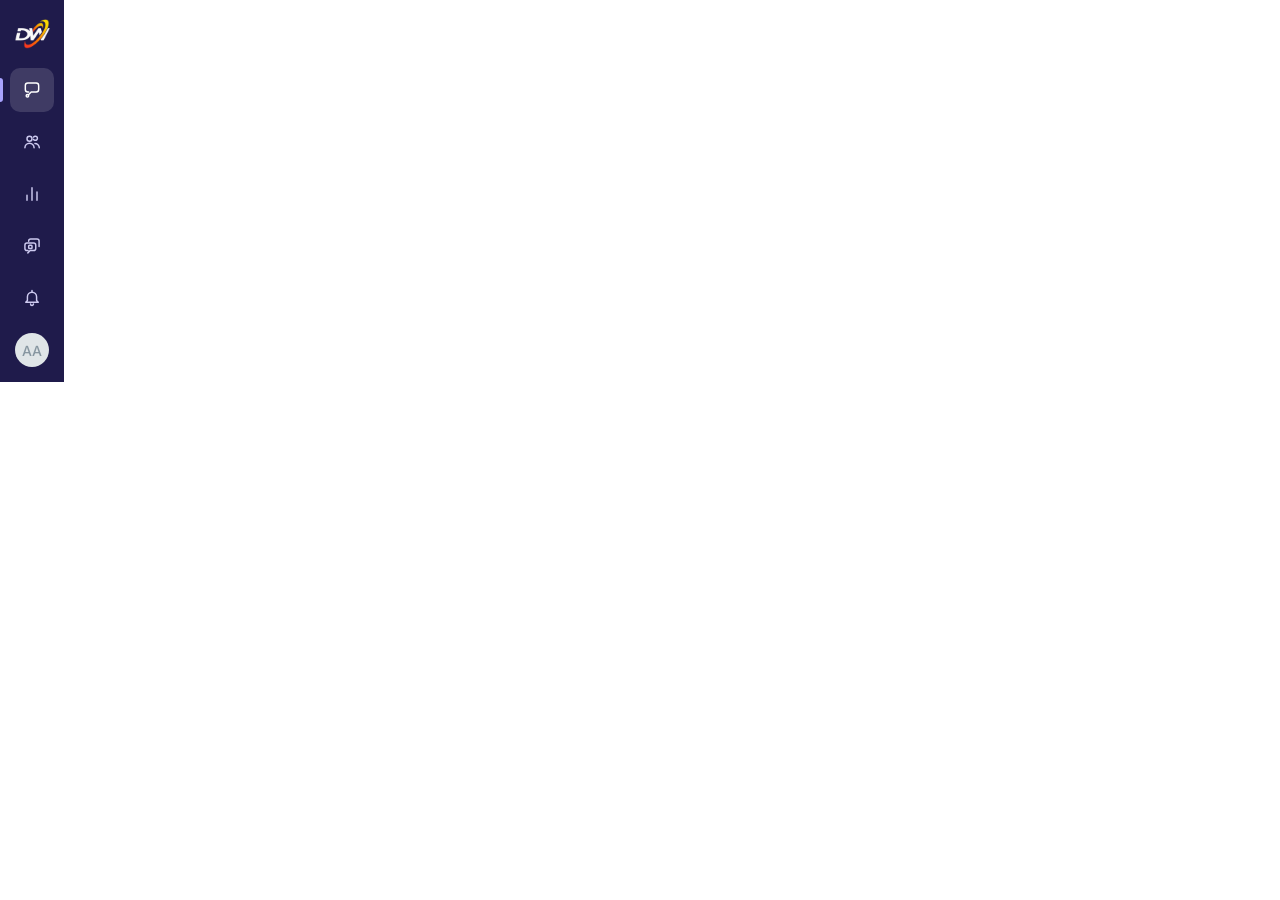
Test: trilho da mesa › Equipe abre o popup "Nossa equipe" e mostra quantos estão online
The width and height of the screenshot is (1280, 900).
Click the button named "equipe" at [32, 142], box [10,120,54,164]
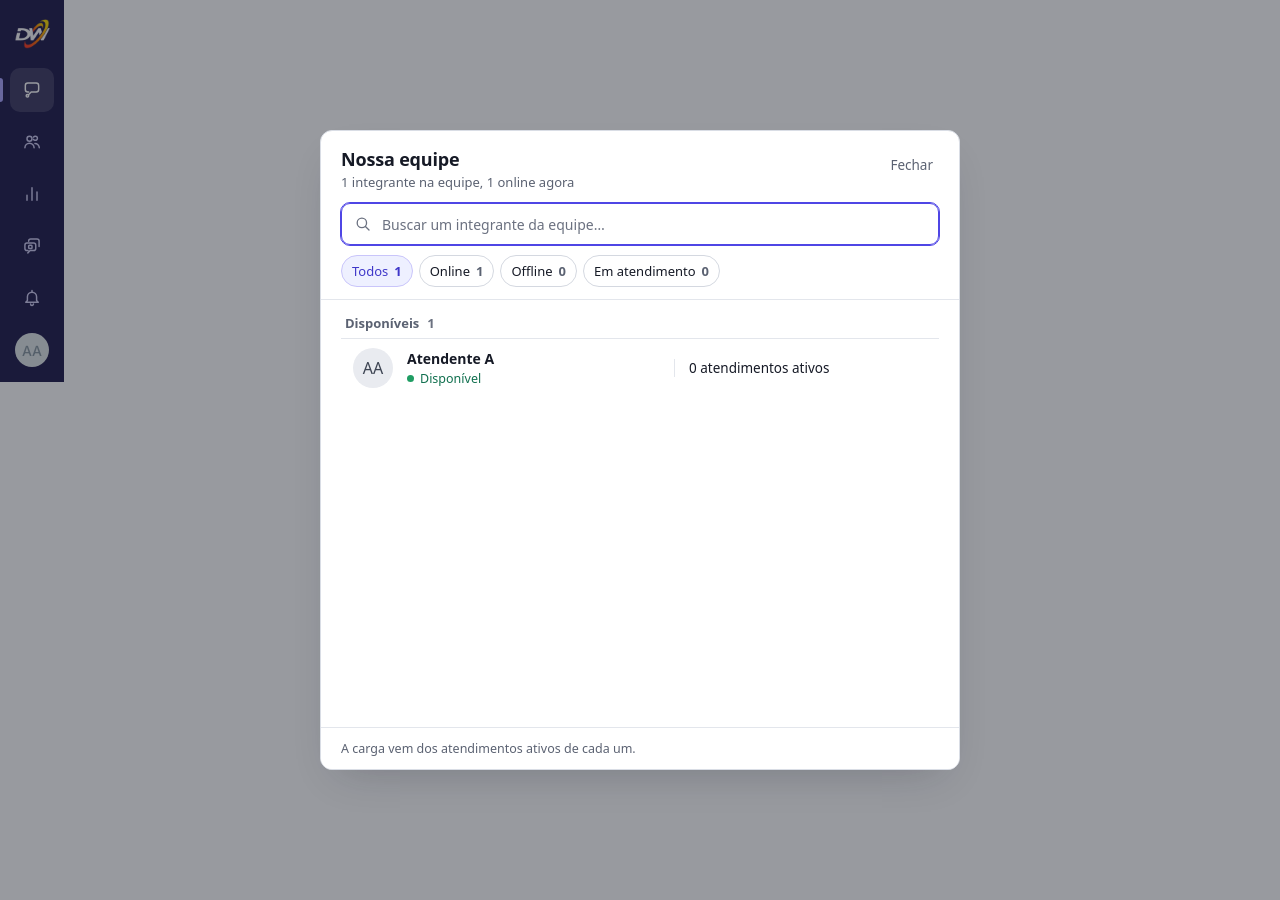
Result: the heading "Nossa equipe" is shown at [341,147,460,171]
